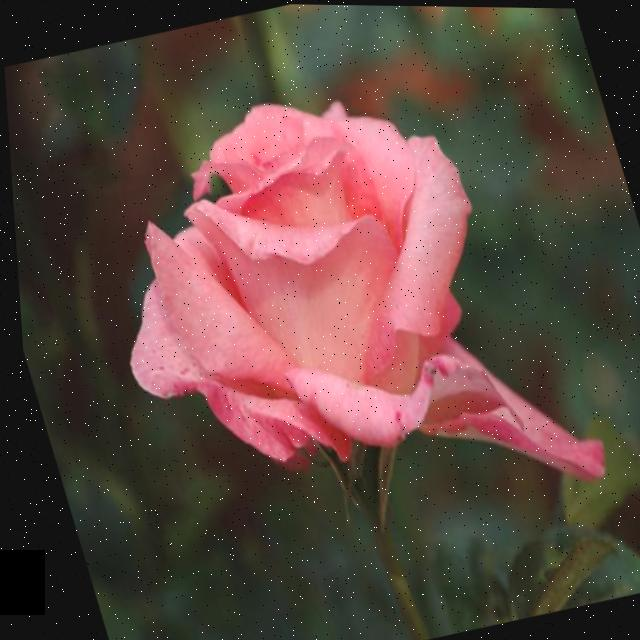rose: (16, 0, 640, 624)
